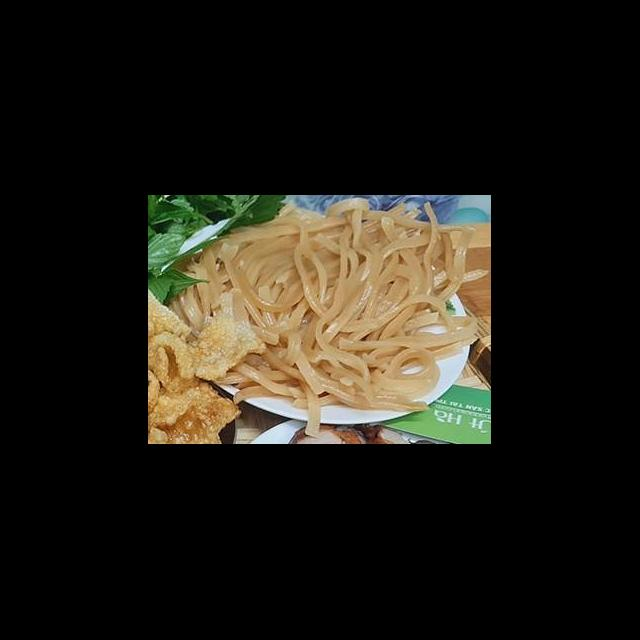banh da: (182, 308, 270, 384), (150, 380, 246, 444), (150, 328, 202, 398), (150, 284, 197, 360)
mi: (164, 196, 488, 440)
